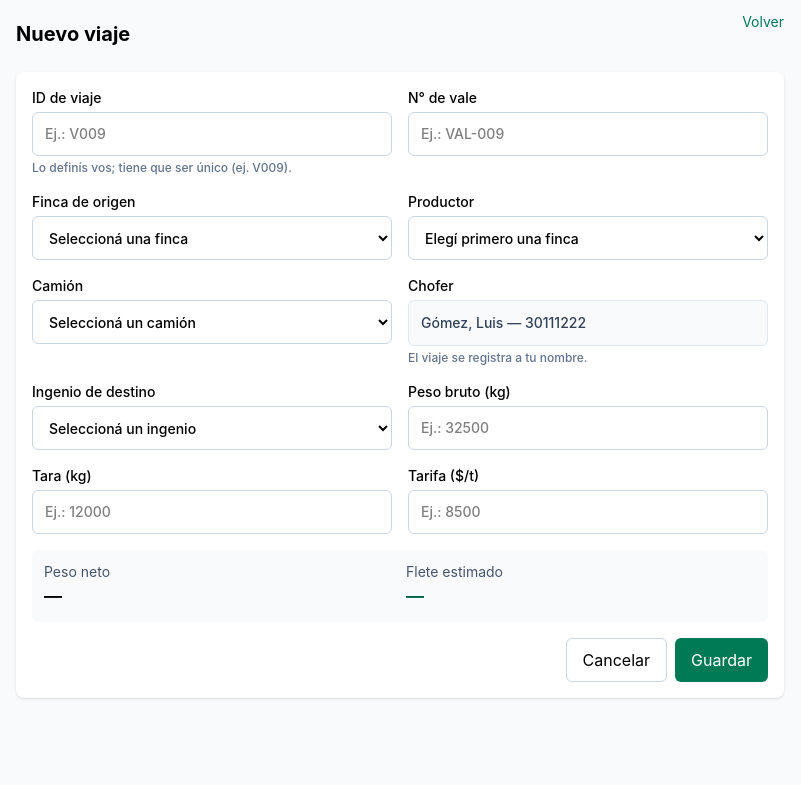
Test case: ViajeForm › valida que la tara no supere el peso bruto sin enviar el formulario
Type "1000" into the field labelled "Peso bruto (kg)".
click(588, 428); type("1000")  # box [408,406,768,450]
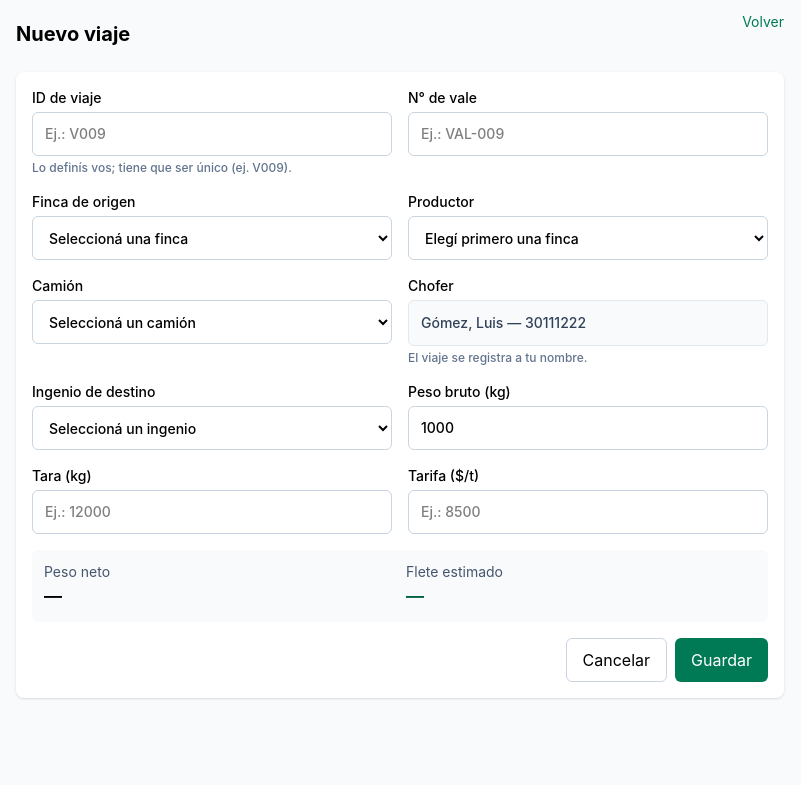
Type "2000" into the field labelled "Tara (kg)".
click(212, 512); type("2000")  # box [32,490,392,534]
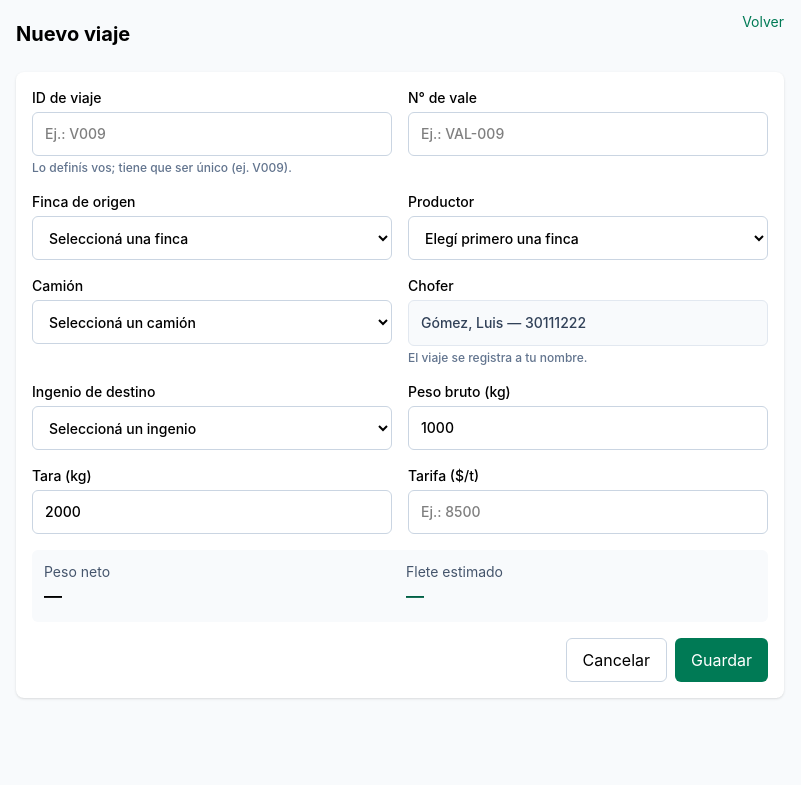
Click the button "Guardar".
click(722, 660)  # box [675,638,768,682]
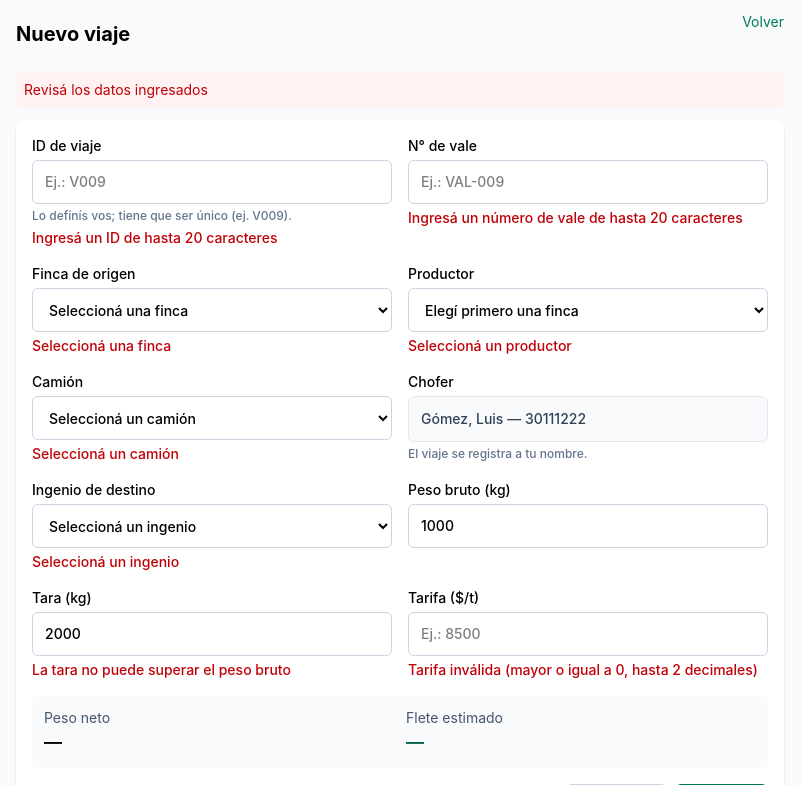
expect the message reads "Revisá los datos ingresados": met, box [24,81,208,98]
expect the text "La tara no puede superar el peso bruto" is shown: met, box [32,661,291,678]
